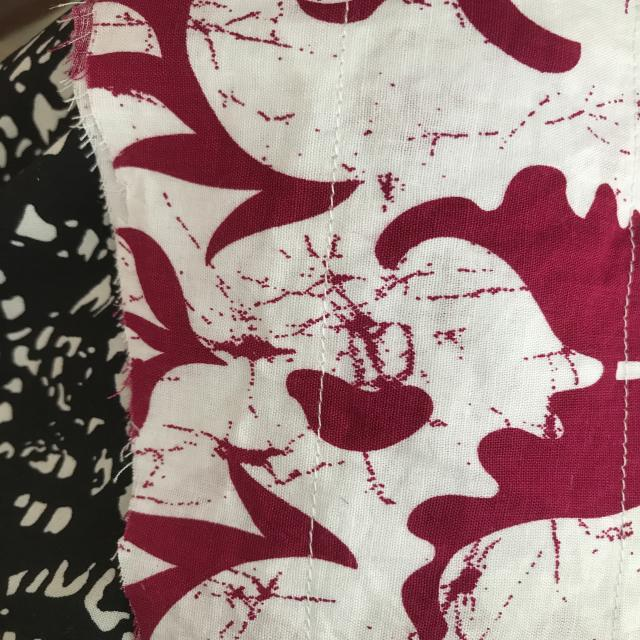good: (610, 395, 634, 506), (304, 383, 335, 430), (620, 278, 636, 338), (307, 476, 327, 511)
